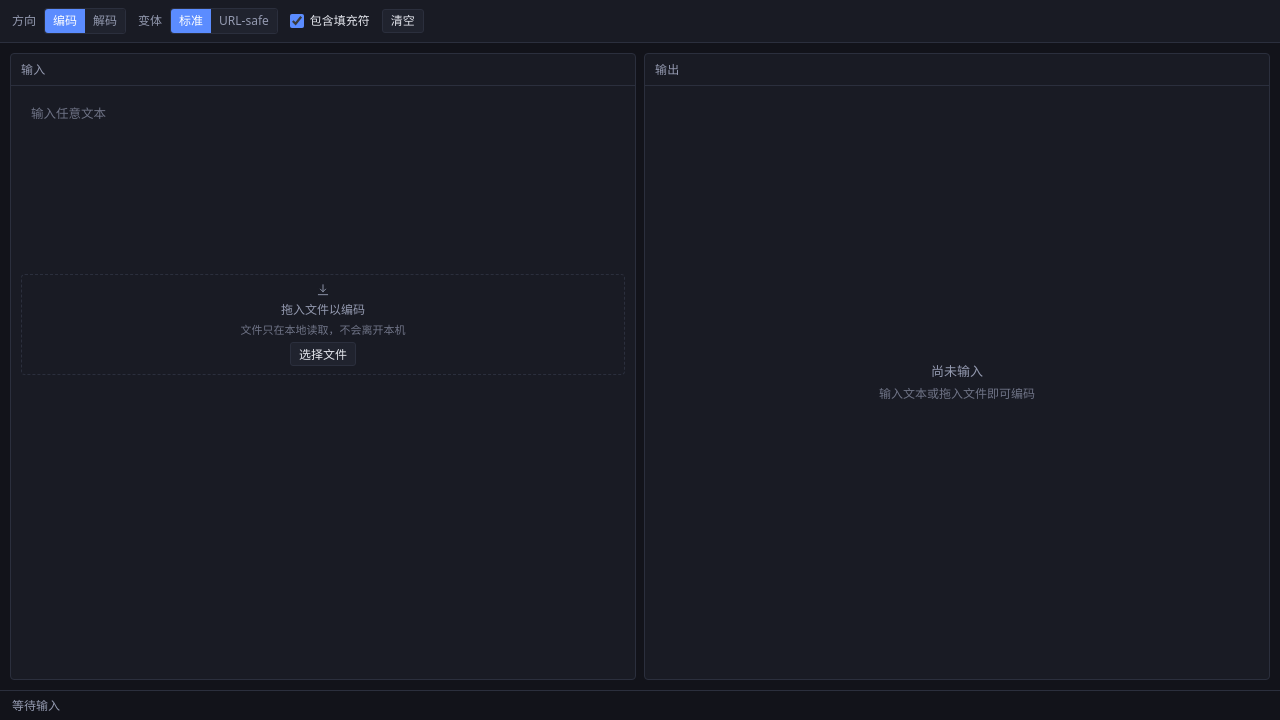
Test: Base64 工具 › 默认编码模式：输入 hello 输出 aGVsbG8=
Type "hello" into the text box named "待编码的文本" at [323, 181], box [21, 96, 625, 266]
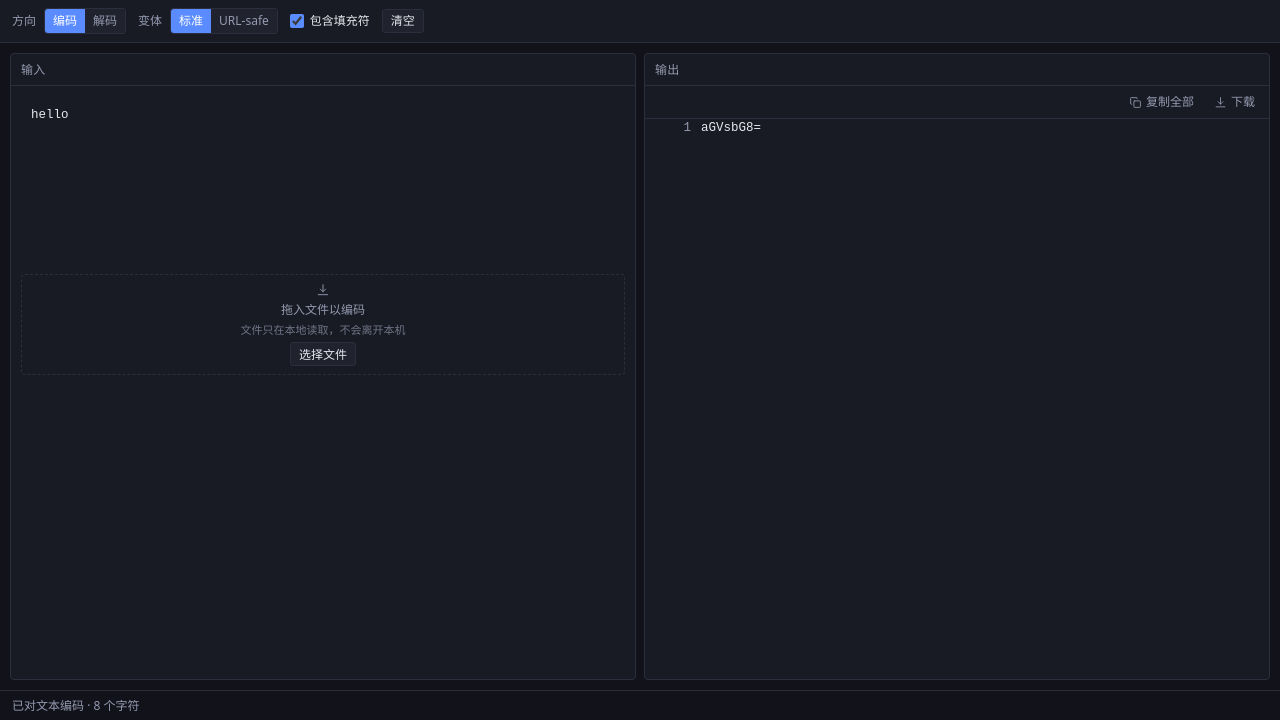
Now the button "复制全部" is shown, box [1121, 90, 1202, 114]
Now the button "下载" is shown, box [1206, 90, 1263, 114]
